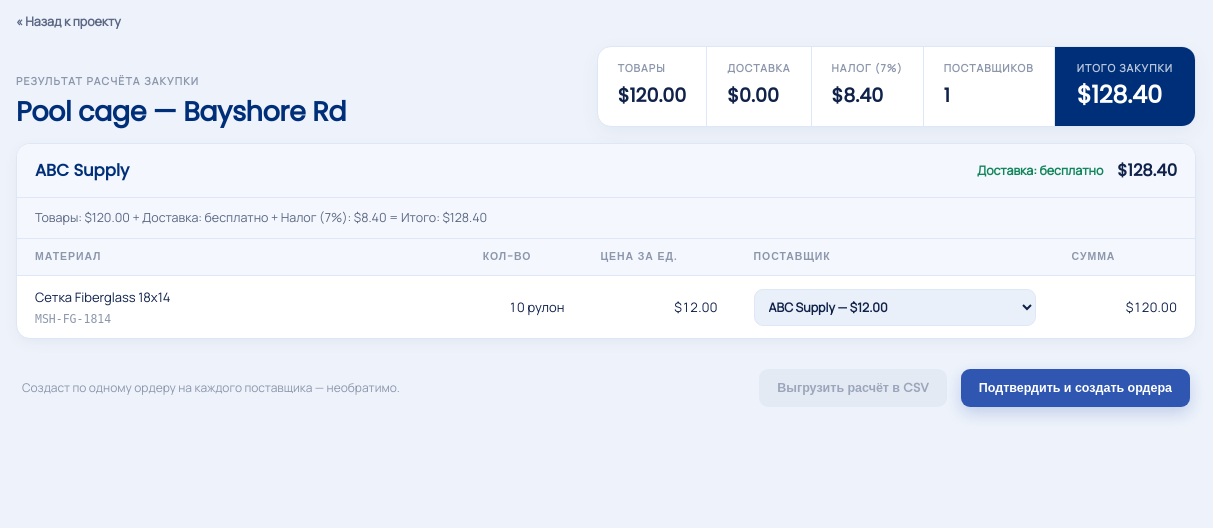
AllocationResultPage › overrides the supplier on a line via the select, then refetches the run
Select "Screenmobile Wholesale — $15.00" in the dropdown at point(895, 307), box [754,288,1036,326]
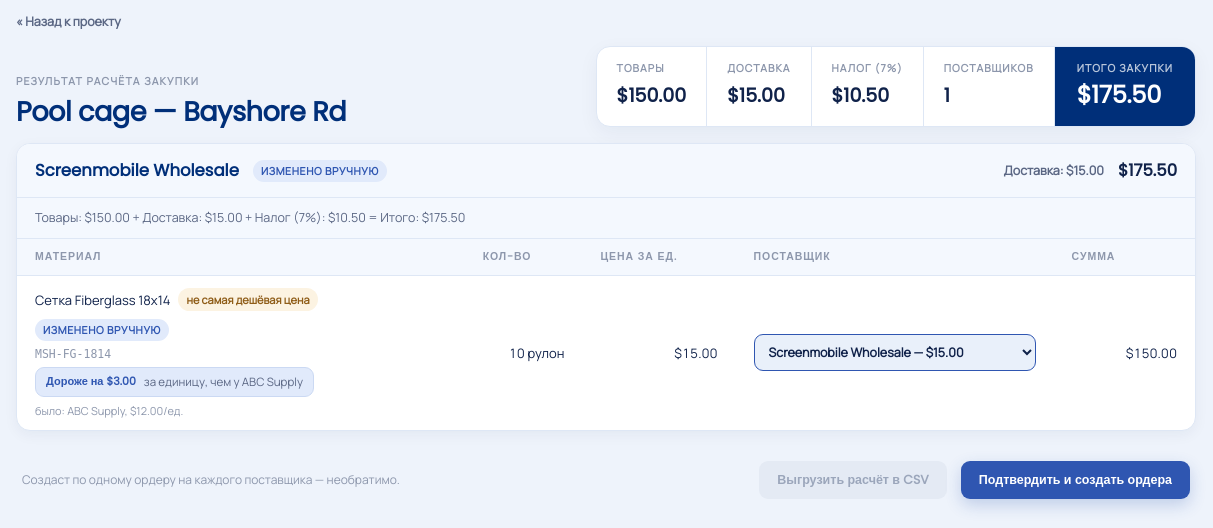
Expected: the text "Screenmobile Wholesale" is shown, [35,158,239,183]
Expected: the text "изменено вручную" is shown 2 times, [253,160,387,182]; [35,319,169,341]
Expected: the text "было: ABC Supply, $12.00/ед." is shown, [35,402,183,418]
